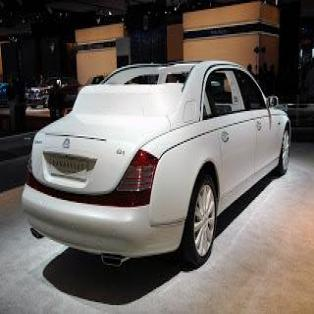Auto: (20, 55, 290, 272)
